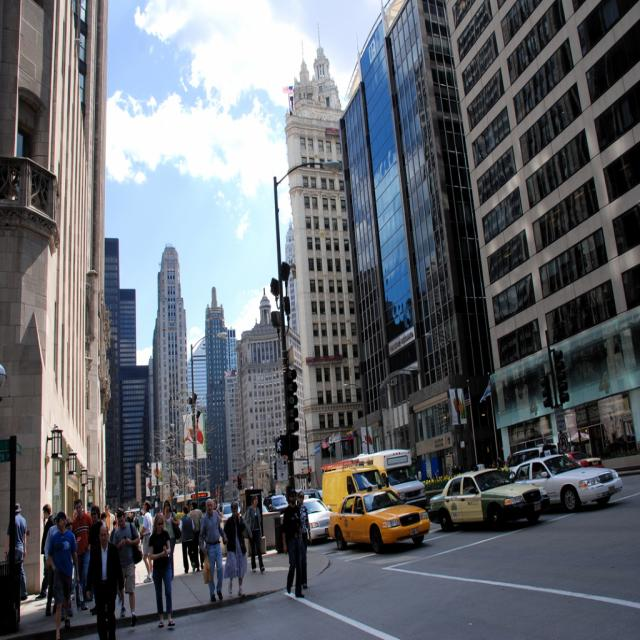car: (428, 468, 553, 526), (327, 485, 431, 549)
